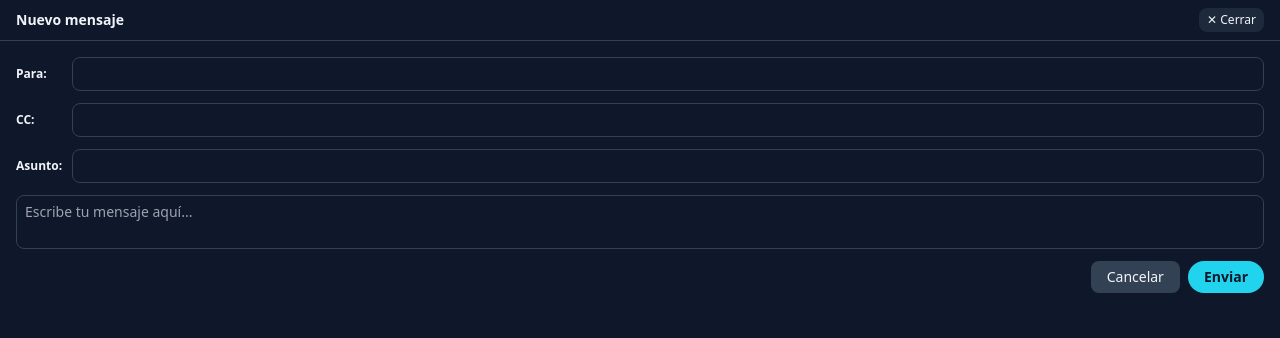
it: ComposePage — redacción y envío › no envía con campos vacíos y avisa
Click the button "Enviar".
click(1226, 277)  # box [1188,261,1264,293]
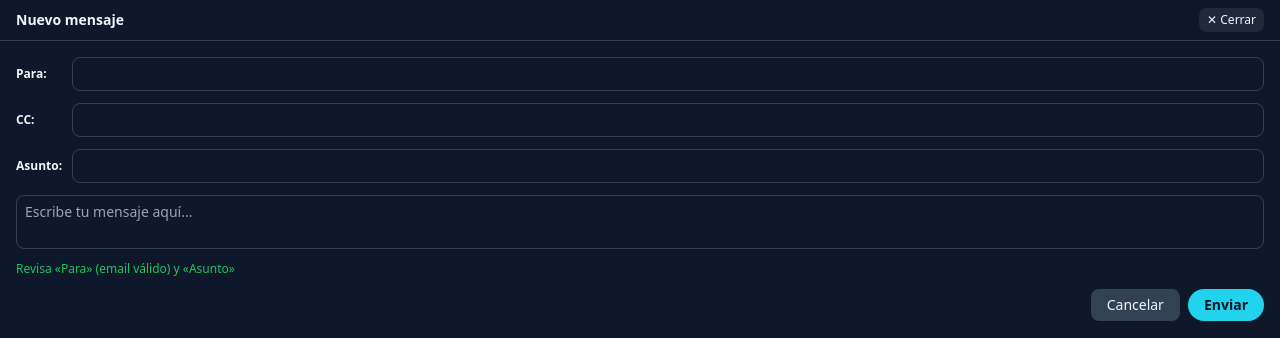
Check: the text "Revisa «Para» (email válido) y «Asunto»" is shown, box [16,260,235,277]
